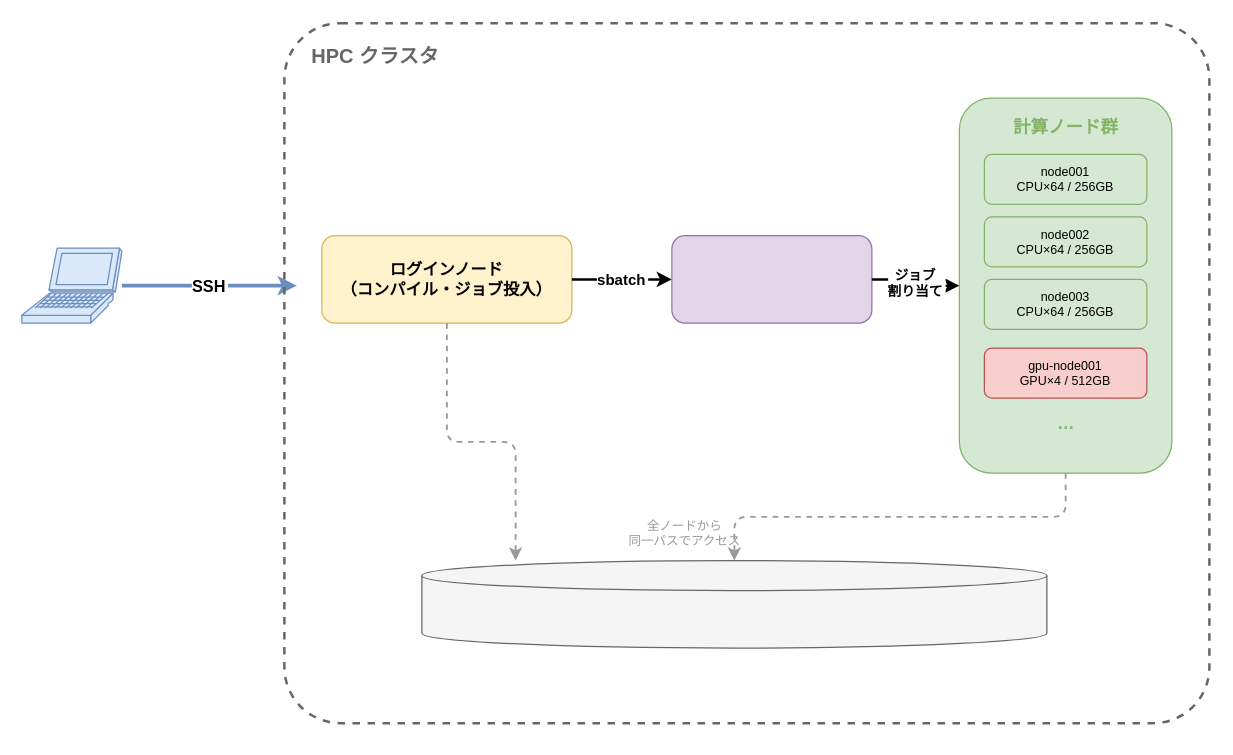
Some shapes in this 1233 by 755 pixel diagram are drawn without their labels. Each missing label, with the centre of its shape:
"スケジューラ （SLURM）" goes at point (771, 278).
"ローカル PC" goes at point (71, 285).
"共有ファイルシステム（Lustre / GPFS / NFS）" goes at point (734, 603).
